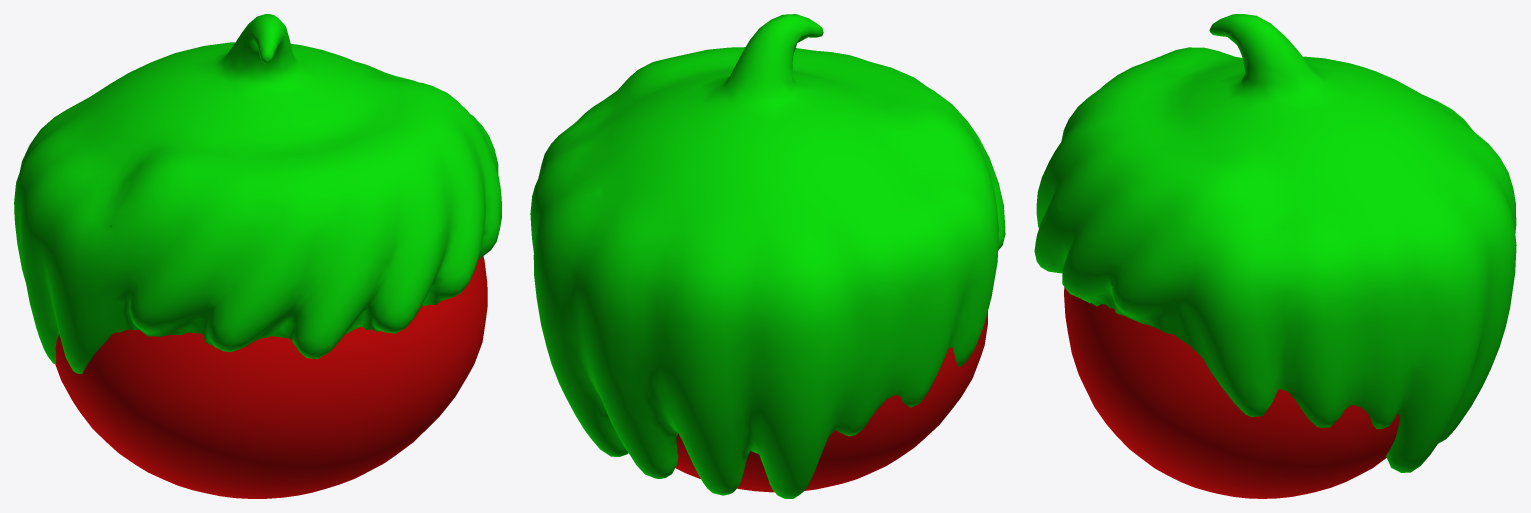
Rendered from bramble_head.glb.
3 renders of one model, left to right at view 1: azimuth 30°, elevation 25°; view 2: azimuth 150°, elevation 25°; view 3: azimuth 270°, elevation 25°, orthographic. The views are drawn at different scales.
Parts seen in each view (by area): view 1: BrambleHead; view 2: BrambleHead; view 3: BrambleHead.
Boxes of the visible parts, <box> form: BrambleHead: <box>14,14,501,498</box>; BrambleHead: <box>530,14,1005,498</box>; BrambleHead: <box>1034,14,1516,498</box>.
Size of the model in its own units: 0.5551 by 0.5712 by 0.5455.
